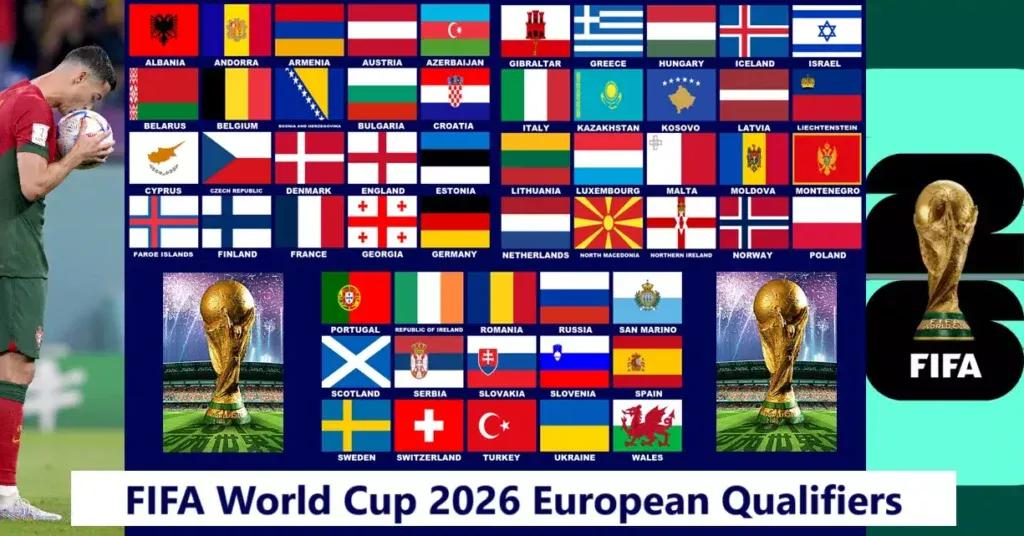ballon_football: (51, 108, 115, 172)
